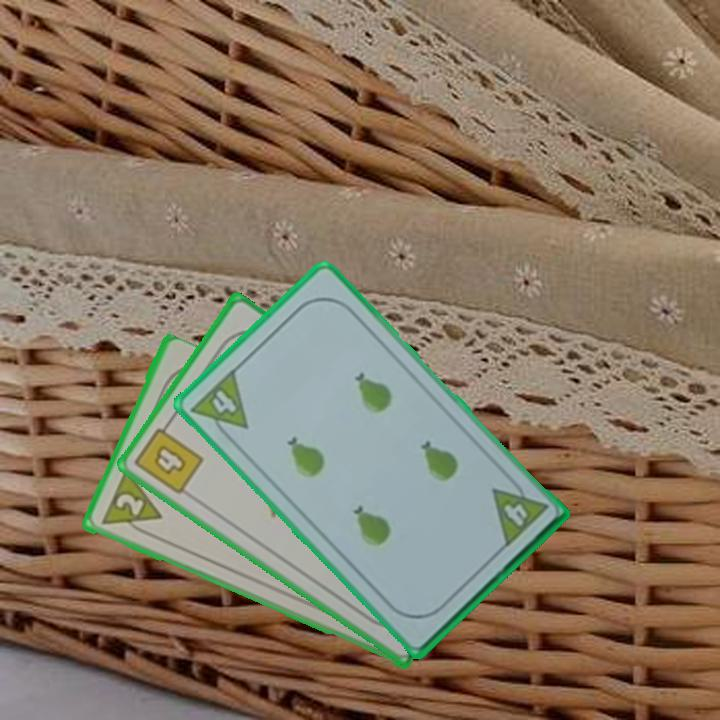2p: (97, 468, 164, 541)
4b: (130, 416, 207, 498)
4p: (187, 365, 251, 446), (488, 472, 551, 550)
